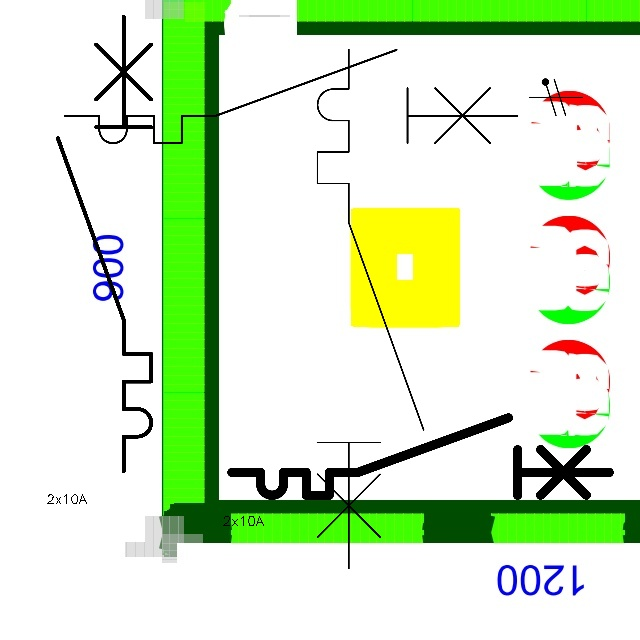interruptor_termomagnetico: (304, 36, 437, 581), (46, 5, 163, 483), (53, 38, 529, 155), (222, 408, 619, 505)
